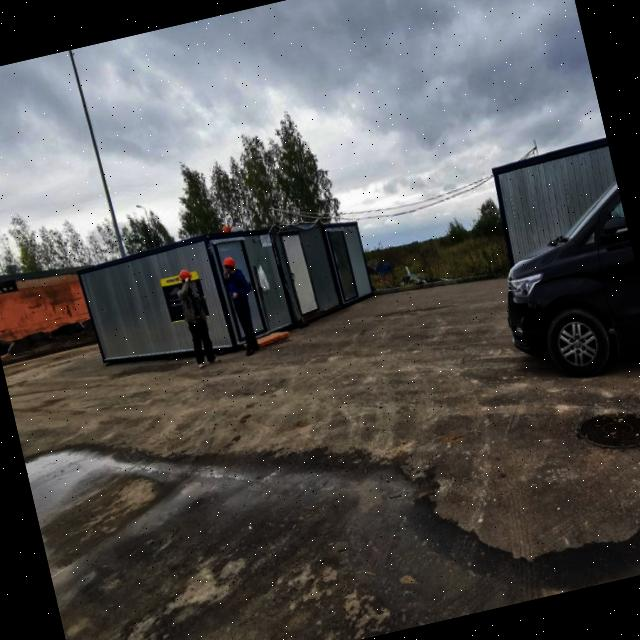Helmet: (179, 268, 194, 284), (222, 256, 237, 271)
NoJacket: (180, 280, 206, 321), (224, 268, 250, 306)
